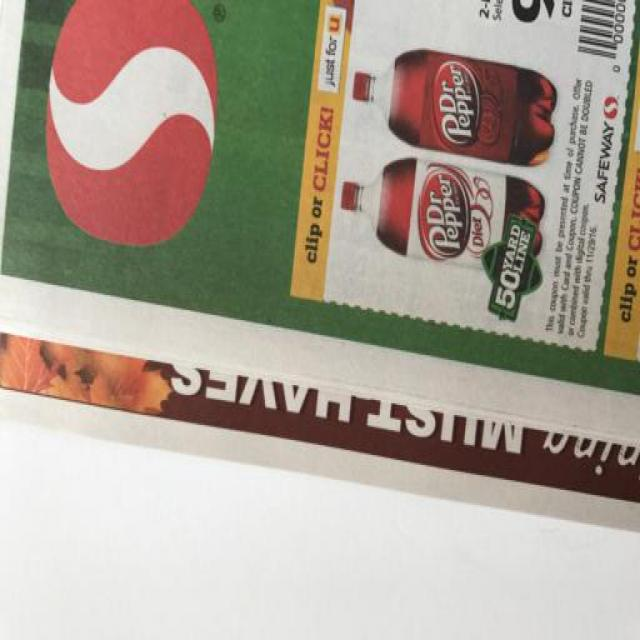paper: (1, 1, 640, 547)
